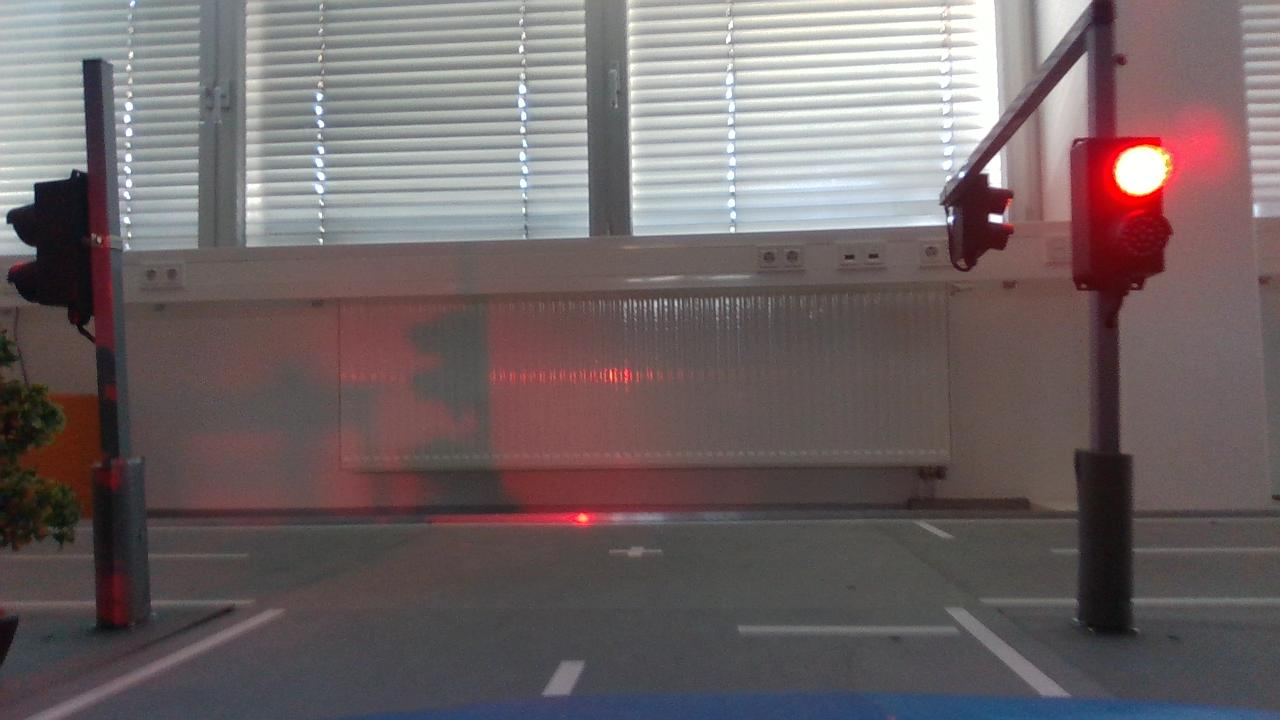traffic_light_red: (1065, 132, 1182, 300)
